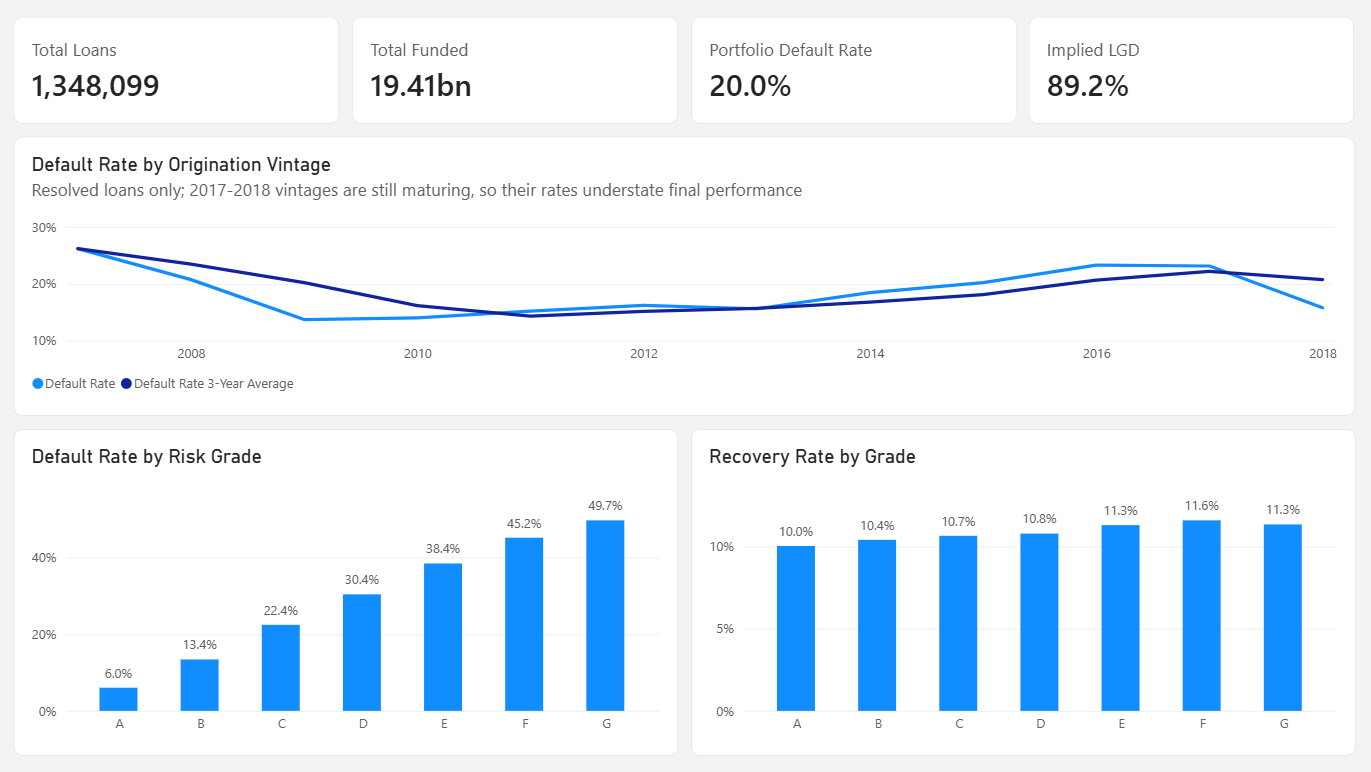

The dashboard page shown, as its layout file describes it:
{"tool":"powerbi","page":{"name":"Portfolio Performance","canvas":[1280,720],"ordinal":0},"visuals":[{"type":"cardVisual","fields":{"Data":["agg_grade_scorecard.Total Loans"]},"box":[16,16,303,100],"z":0},{"type":"cardVisual","fields":{"Data":["agg_grade_scorecard.Total Funded"]},"box":[331,16,303,100],"z":1},{"type":"cardVisual","fields":{"Data":["agg_grade_scorecard.Portfolio Default Rate"]},"box":[646,16,303,100],"z":2},{"type":"cardVisual","fields":{"Data":["agg_recovery_by_grade.Implied LGD"]},"box":[961,16,303,100],"z":3},{"type":"lineChart","title":"Default Rate by Origination Vintage","fields":{"Category":["agg_vintage_default_trend.issue_year"],"Y":["Sum(agg_vintage_default_trend.default_rate)","Sum(agg_vintage_default_trend.default_rate_3yr_avg)"]},"box":[16,128,1248,260],"z":4},{"type":"clusteredColumnChart","title":"Default Rate by Risk Grade","fields":{"Category":["agg_grade_scorecard.grade"],"Y":["Sum(agg_grade_scorecard.default_rate)"]},"box":[16,400,618,304],"z":5},{"type":"clusteredColumnChart","title":"Recovery Rate by Grade","fields":{"Category":["agg_recovery_by_grade.grade"],"Y":["agg_recovery_by_grade.Recovery Rate"]},"box":[646,400,618,304],"z":6}]}

Visuals, with their boxes in screenshot pixels (x1, y1, x2, y2), scaled from the page's 1280x720 canvas onto the 1371x772 screenshot:
cardVisual - agg_grade_scorecard.Total Loans: left=17, top=17, right=342, bottom=124
cardVisual - agg_grade_scorecard.Total Funded: left=355, top=17, right=679, bottom=124
cardVisual - agg_grade_scorecard.Portfolio Default Rate: left=692, top=17, right=1016, bottom=124
cardVisual - agg_recovery_by_grade.Implied LGD: left=1029, top=17, right=1354, bottom=124
"Default Rate by Origination Vintage" lineChart: left=17, top=137, right=1354, bottom=416
"Default Rate by Risk Grade" clusteredColumnChart: left=17, top=429, right=679, bottom=755
"Recovery Rate by Grade" clusteredColumnChart: left=692, top=429, right=1354, bottom=755
